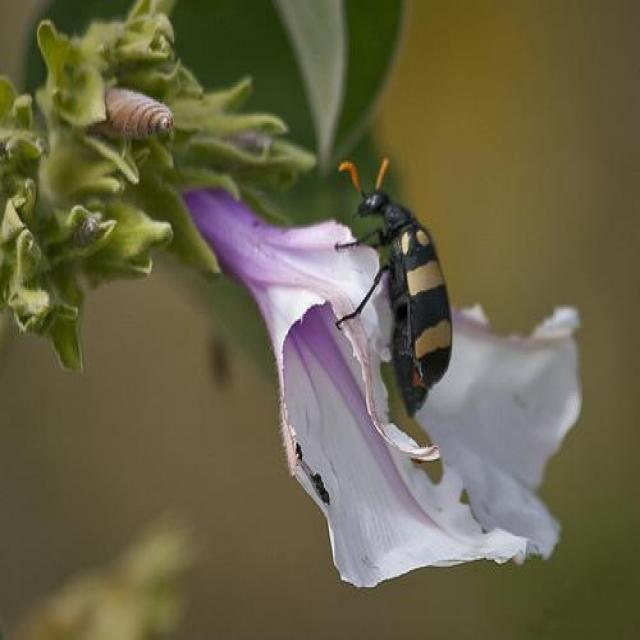BlisterBeetle-Adult-: (314, 139, 455, 431)
